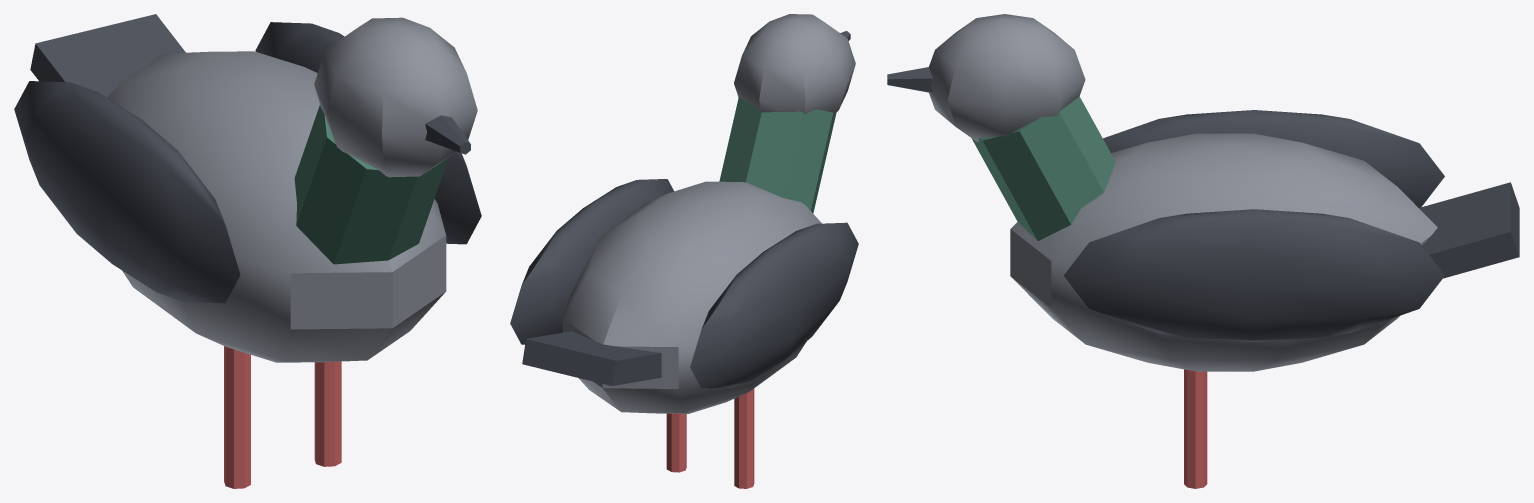
The model's file is town_mw_pigeon.glb.
3 views of the same model, side by side, from view 1: azimuth 30°, elevation 25°; view 2: azimuth 150°, elevation 25°; view 3: azimuth 270°, elevation 25° (orthographic). The views are drawn at different scales.
Parts seen in each view (by area): view 1: Body, Neck, Wing_R.001, Wing_L.001, Leg_R.001, Leg_L.001; view 2: Body, Neck, Wing_R.001, Wing_L.001, Leg_R.001, Leg_L.001; view 3: Body, Wing_L.001, Neck, Wing_R.001, Leg_L.001.
Boxes of the visible parts, bbox=[...] form: Body: bbox=[30, 14, 446, 362]; Neck: bbox=[294, 17, 477, 264]; Wing_R.001: bbox=[14, 81, 240, 303]; Wing_L.001: bbox=[255, 22, 481, 244]; Leg_R.001: bbox=[224, 346, 250, 488]; Leg_L.001: bbox=[314, 361, 341, 466]; Body: bbox=[522, 181, 821, 413]; Neck: bbox=[719, 14, 855, 213]; Wing_R.001: bbox=[690, 222, 858, 388]; Wing_L.001: bbox=[510, 179, 673, 344]; Leg_R.001: bbox=[734, 388, 754, 488]; Leg_L.001: bbox=[666, 413, 686, 472]; Body: bbox=[1010, 133, 1519, 371]; Wing_L.001: bbox=[1063, 209, 1444, 341]; Neck: bbox=[887, 14, 1115, 240]; Wing_R.001: bbox=[1103, 110, 1444, 207]; Leg_L.001: bbox=[1184, 369, 1207, 488].
Size of the model in its own units: 0.2 by 0.335 by 0.4307.
